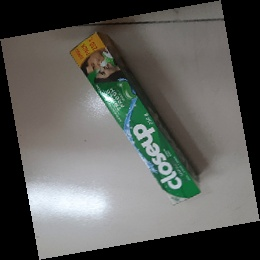CloseUp Xanh: (71, 31, 202, 206)
